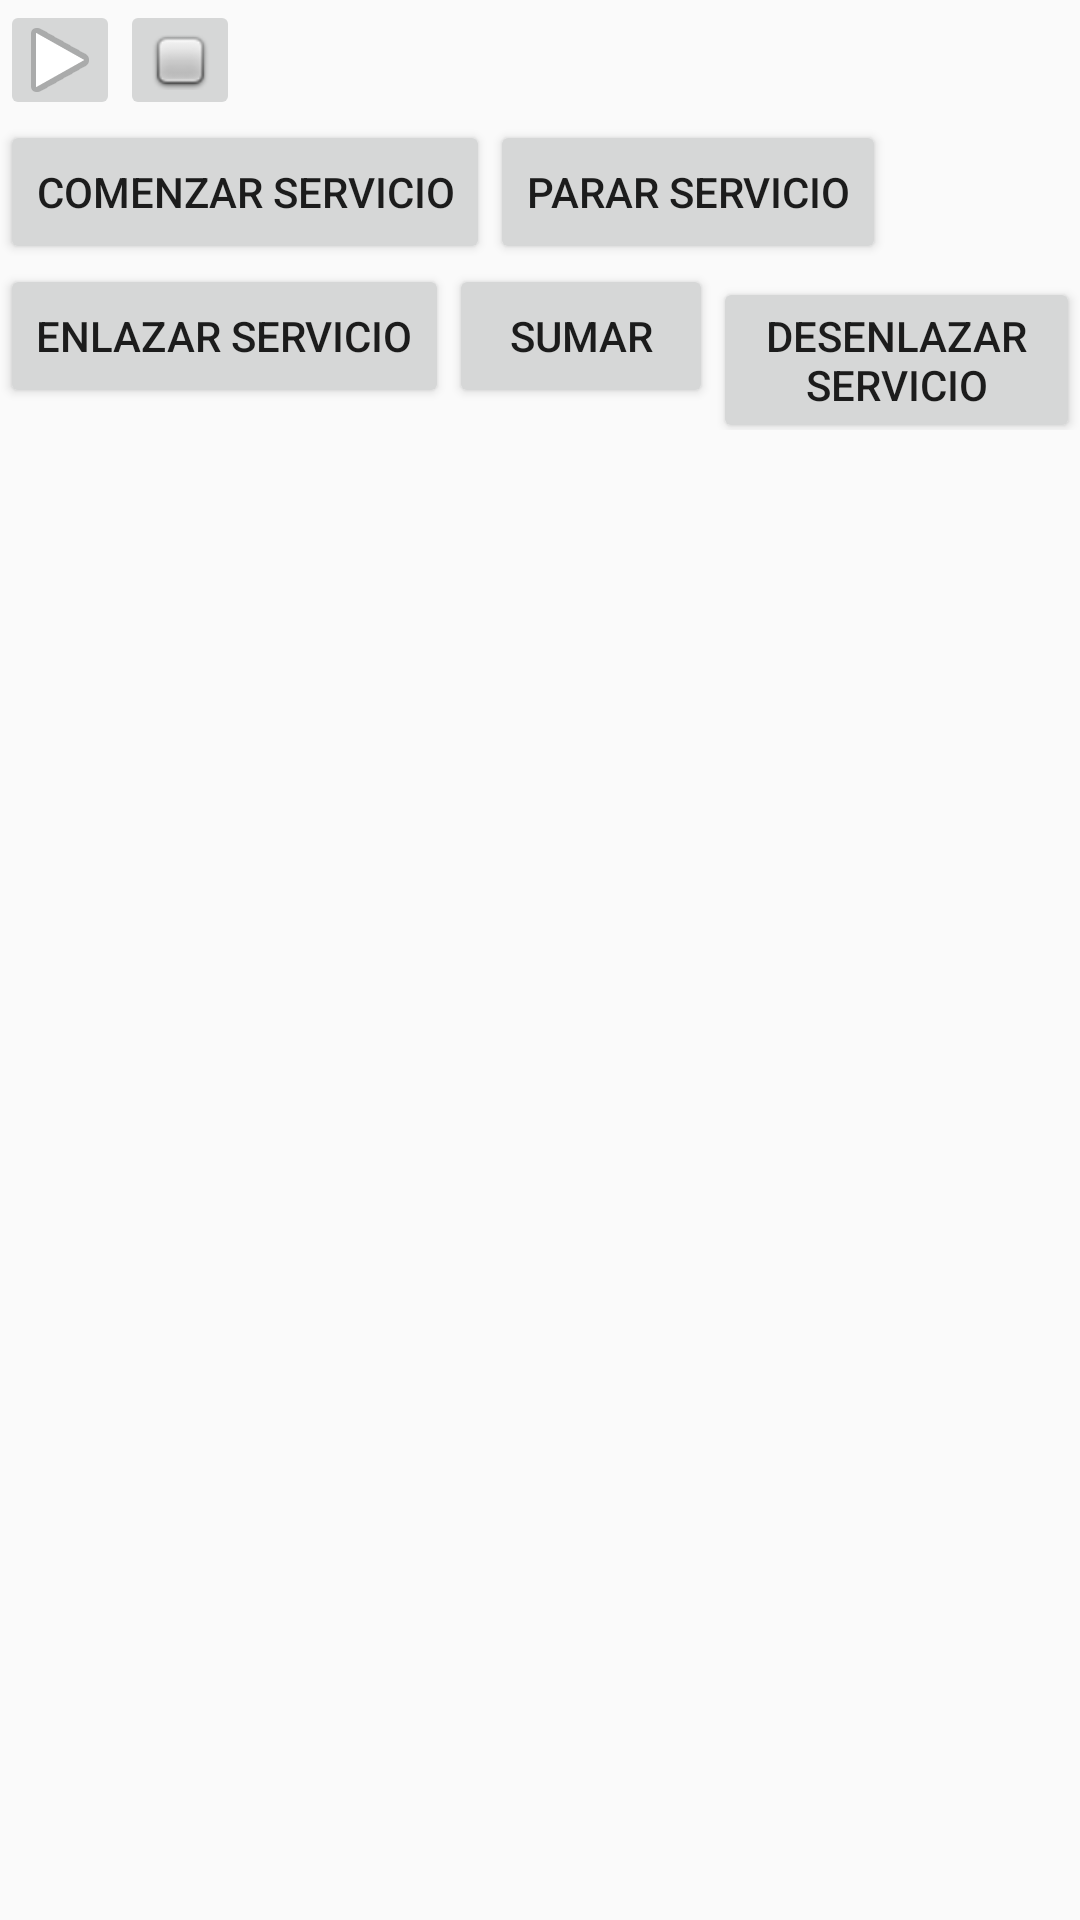

Screen size 1080 × 1920. Icon name, then its center in pixels as [x,y]:
play: [60,60]
